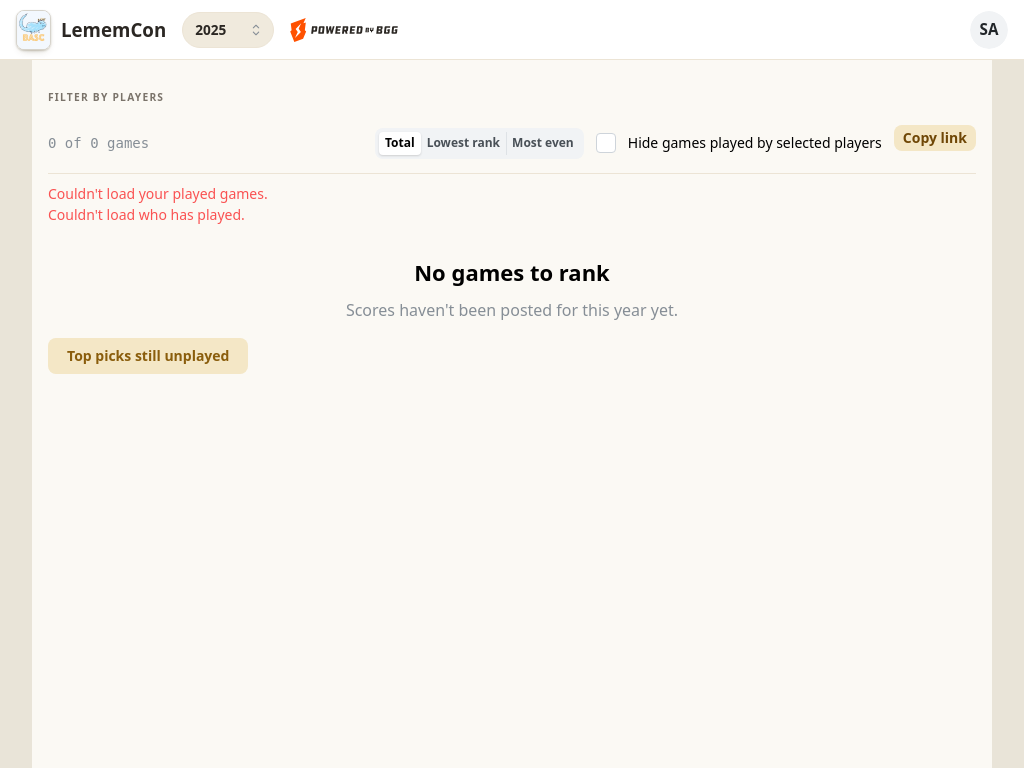
App gate › renders the app without an Admin link for members
The width and height of the screenshot is (1024, 768).
expect the heading "LememCon" is shown: met, box [61,15,166,44]
What coordinates should you click on to do the following:
click the button with aria-label "Account menu"
I would click on:
 (989, 30)
Its box is [970,10,1008,48].
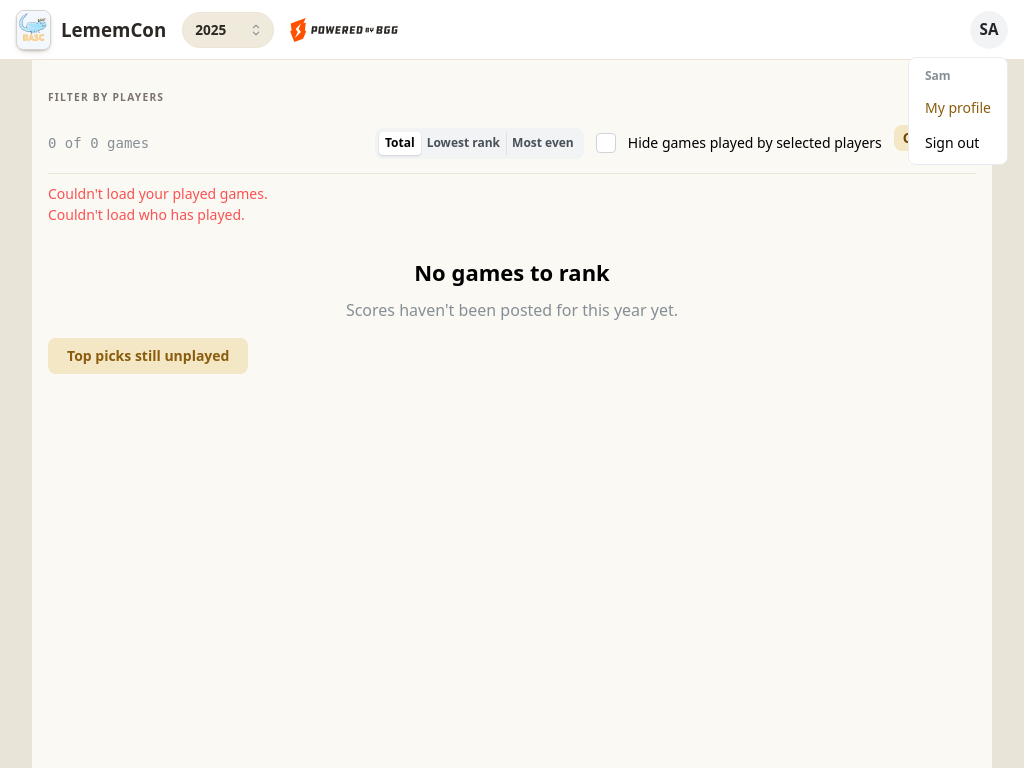
expect the text "Sign out" is shown: met, box [925,133,979,152]
